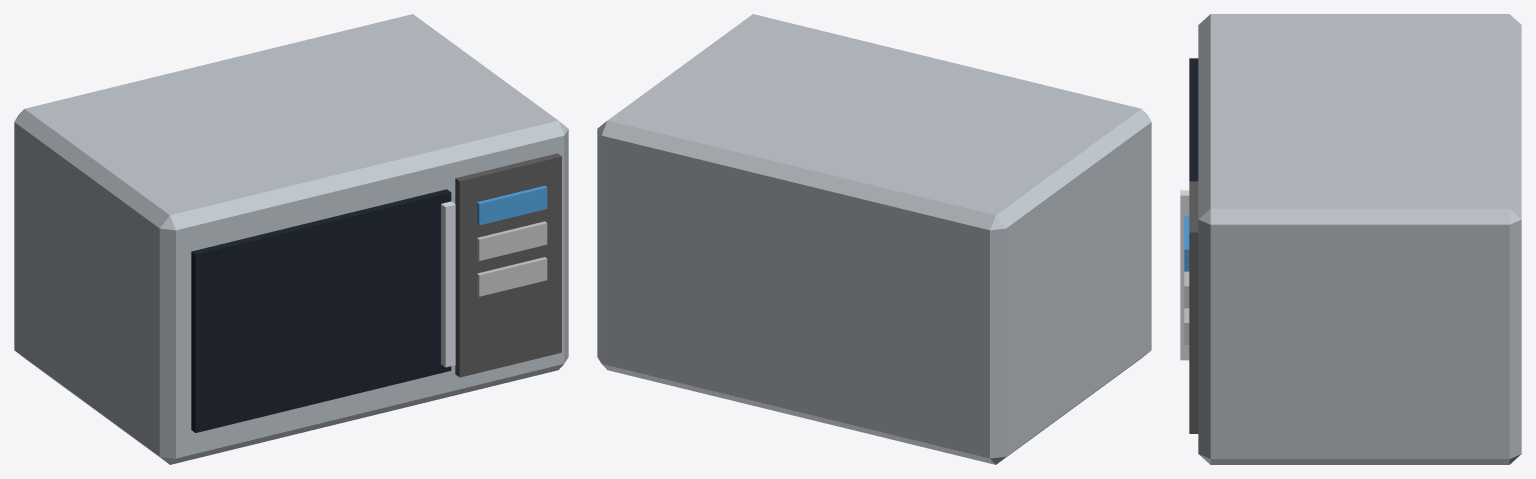
File: FUR_Microwave.fbx
3 views of the same model, side by side, from view 1: azimuth 30°, elevation 25°; view 2: azimuth 150°, elevation 25°; view 3: azimuth 270°, elevation 25° (orthographic). The views are drawn at different scales.
Parts seen in each view (by area): view 1: FUR_Microwave; view 2: FUR_Microwave; view 3: FUR_Microwave.
Boxes of the visible parts, x1,y1,x2,y2 form: FUR_Microwave: [14, 14, 568, 464]; FUR_Microwave: [597, 14, 1151, 464]; FUR_Microwave: [1180, 14, 1521, 464].
Bounding box in the file's own units: 2.4 × 1.4 × 1.69.
